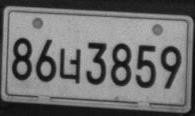3: (85, 41, 107, 85)
5: (135, 44, 156, 89)
6: (35, 38, 57, 83)
8: (109, 42, 132, 87), (11, 37, 33, 81)
9: (159, 44, 182, 88)
너: (58, 47, 81, 83)
